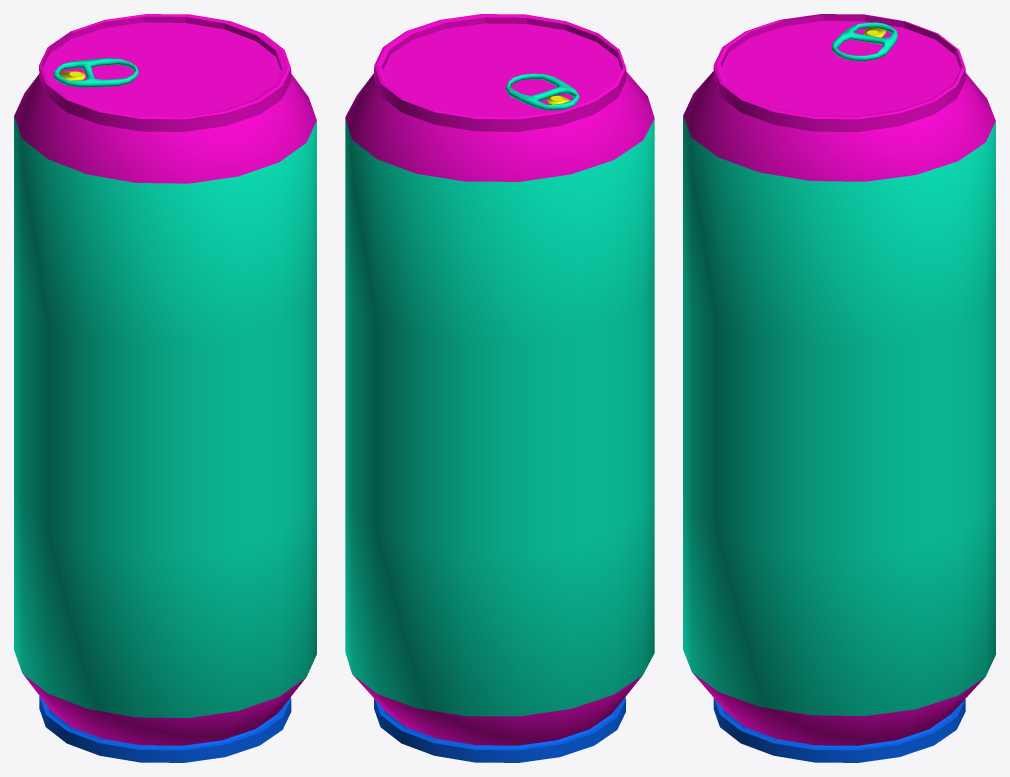
Rendered from TallDrinkCan.fbx.
The picture shows the model from 3 angles, left to right: view 1: azimuth 30°, elevation 25°; view 2: azimuth 150°, elevation 25°; view 3: azimuth 270°, elevation 25°; orthographic projection.
Visible parts, largest first — view 1: Tall Soft Drink Can; view 2: Tall Soft Drink Can; view 3: Tall Soft Drink Can.
Boxes of the visible parts, x1,y1,x2,y2 form: Tall Soft Drink Can: [14, 14, 316, 762]; Tall Soft Drink Can: [345, 14, 654, 762]; Tall Soft Drink Can: [683, 14, 995, 762].
Size of the model in its own units: 2.76 by 6.53 by 2.87.
